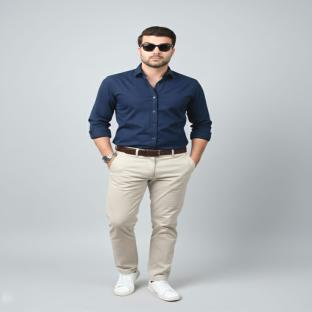Human: (89, 27, 212, 301)
